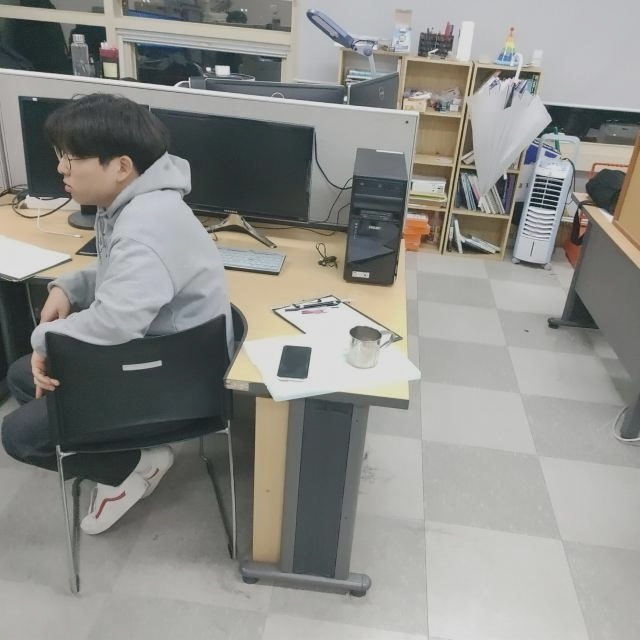cup: (344, 323, 394, 373)
phone: (275, 341, 317, 384)
